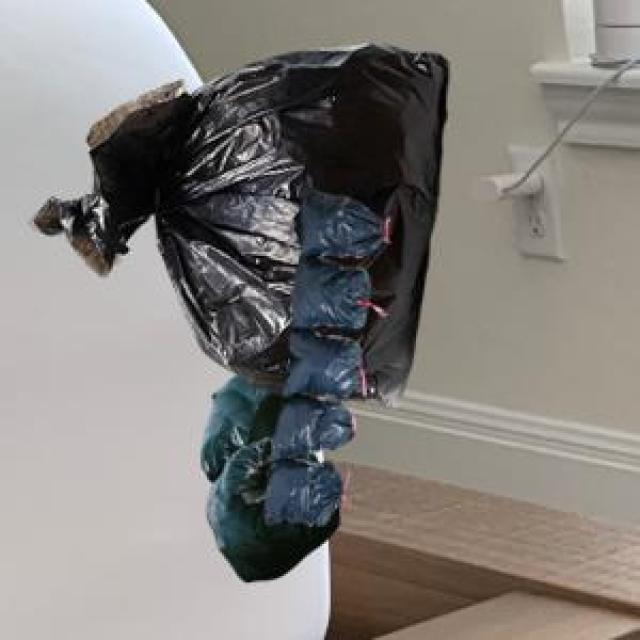garbage_bag: (32, 39, 452, 583)
